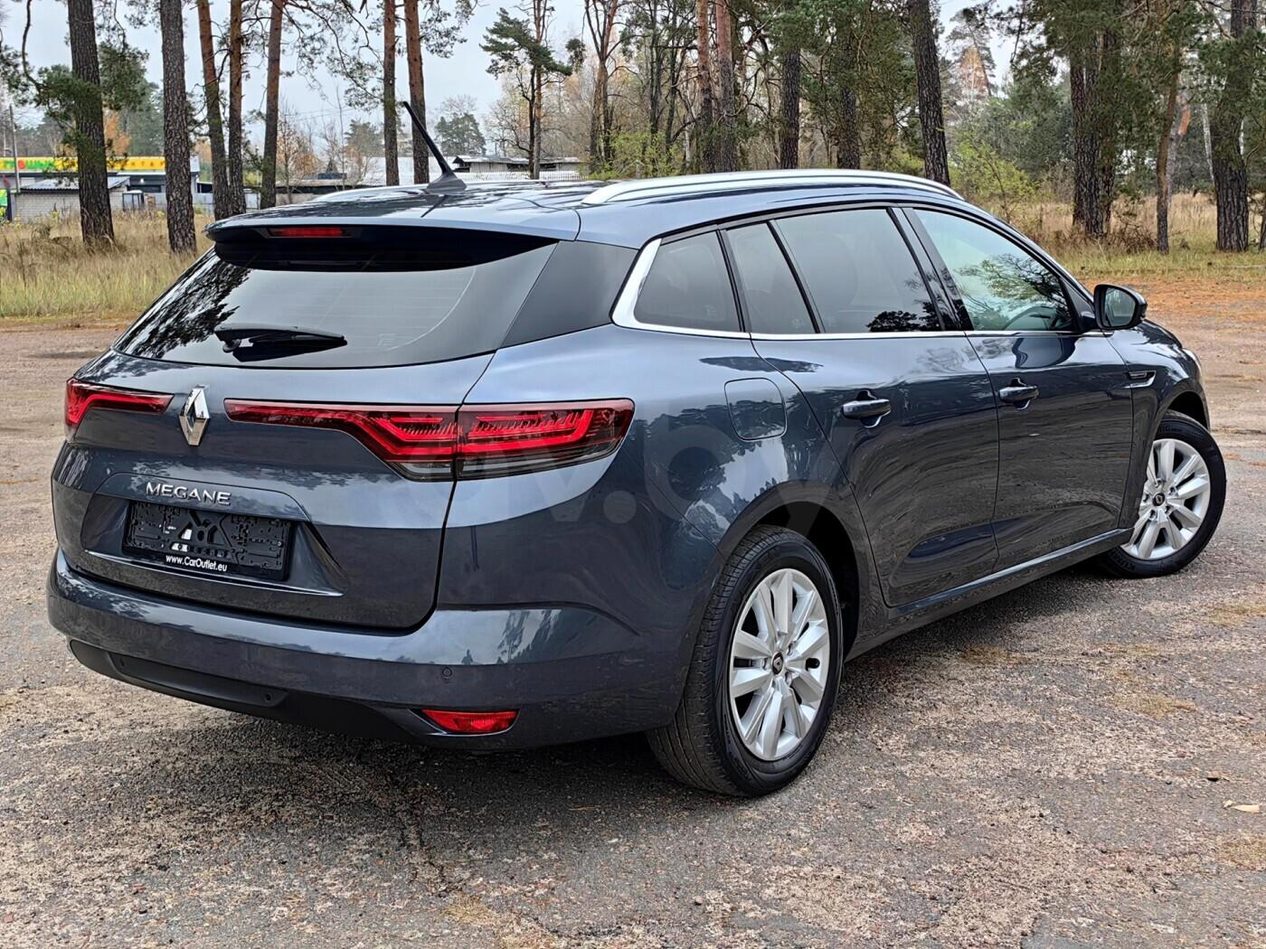Megane_2020: (34, 163, 1221, 779)
